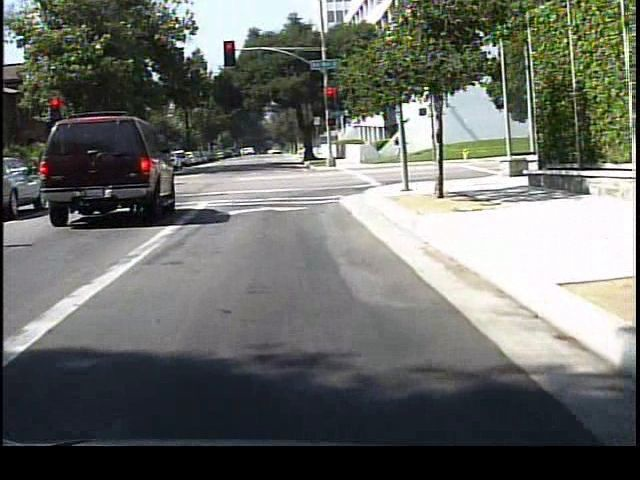person: (391, 127, 411, 167)
